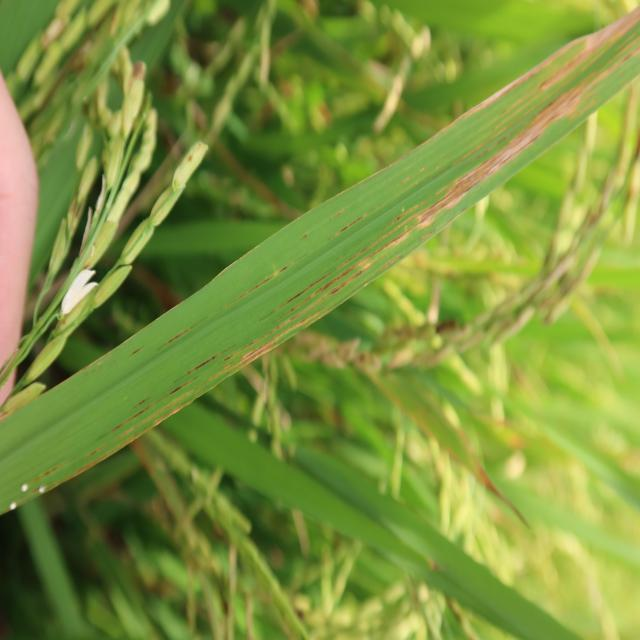Dom soc vi khuan: (32, 0, 640, 497)
